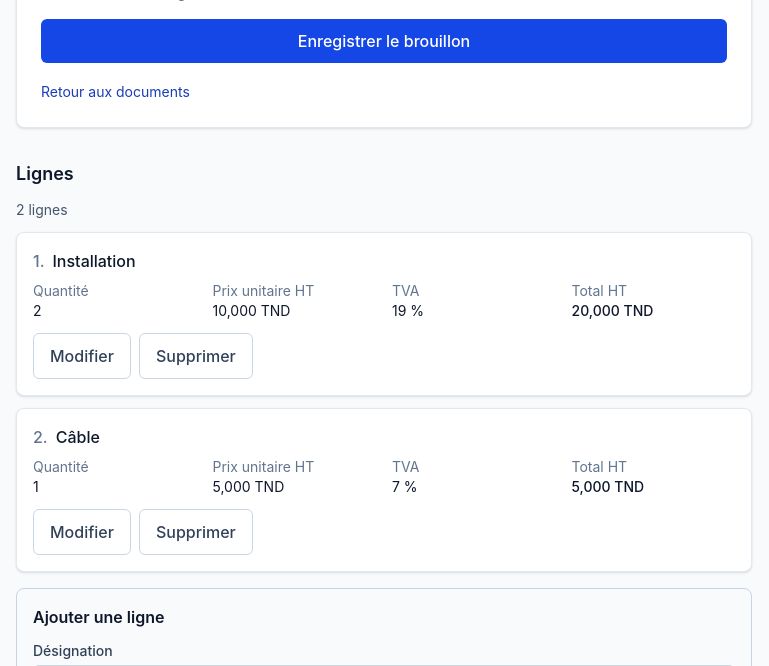
Test: editing a line › opens the stored values and updates that line only, with exactly the editable columns
The width and height of the screenshot is (769, 666).
(page scrolled)
Click the button with aria-label "Modifier la ligne 1 : Installation".
click(82, 356)  # box [33,333,131,379]
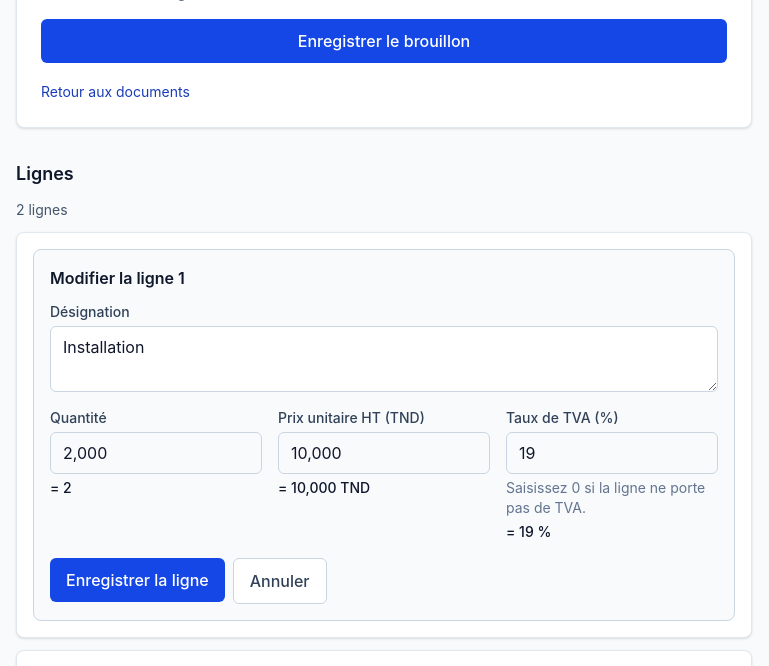
Result: the text box labelled "Désignation" holds "Installation" at [50,326,718,392]
Result: the field labelled "Quantité" holds "2,000"
Result: the field labelled "Prix unitaire HT (TND)" holds "10,000" at [278,432,490,474]
Replace the text in the field labelled "Quantité" with "3" at {"x": 156, "y": 453}, box [50,432,262,474]
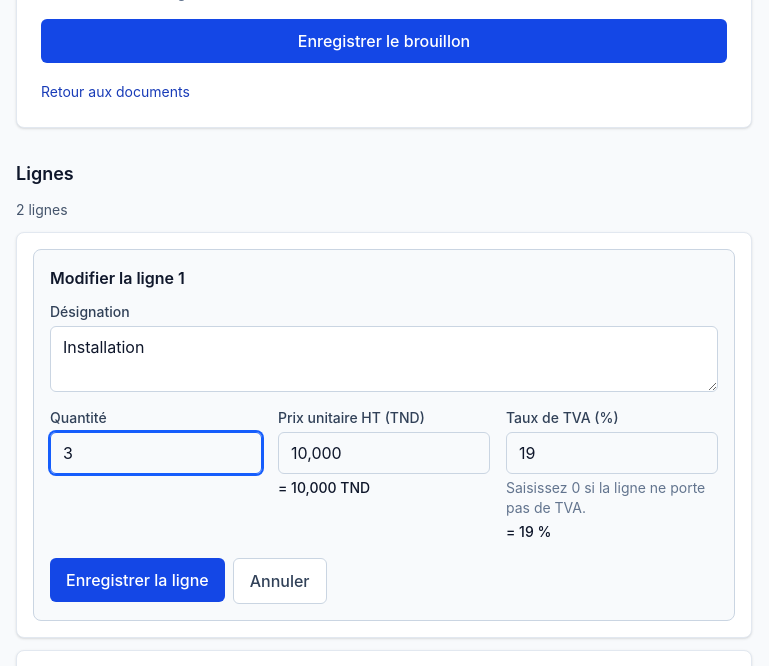
Click the button "Enregistrer la ligne".
click(137, 580)  # box [50,558,225,602]
(page scrolled)
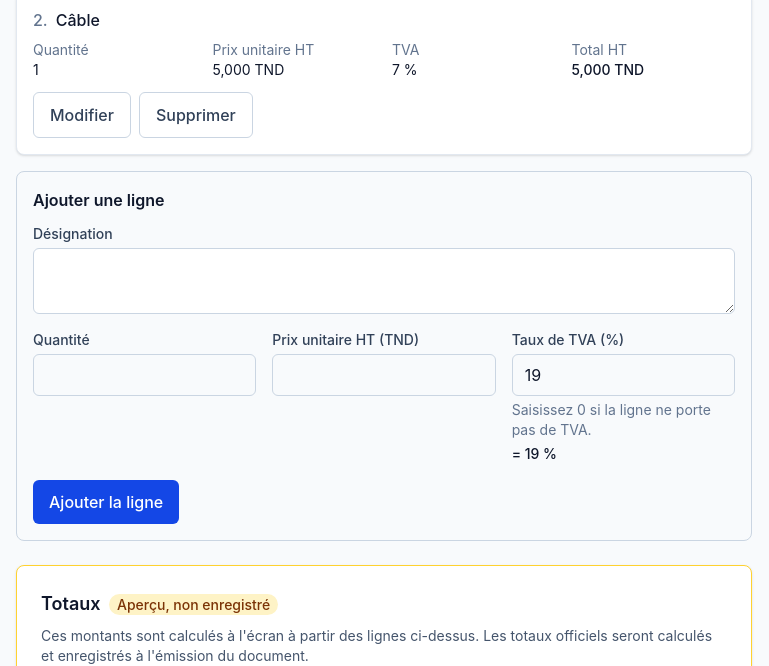
Result: the form "Ajouter une ligne" is shown at [16,171,752,541]
